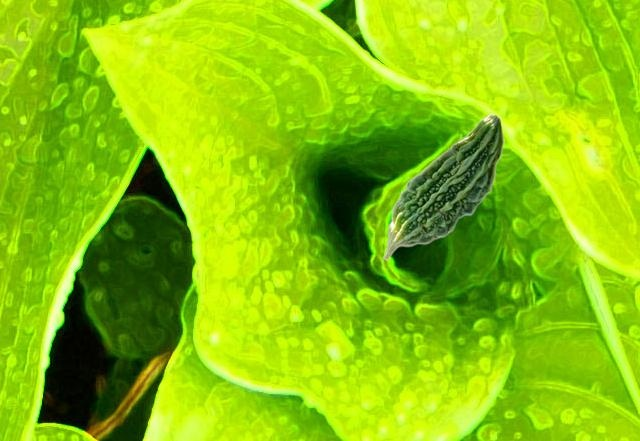ampalaya: (381, 113, 506, 260)
